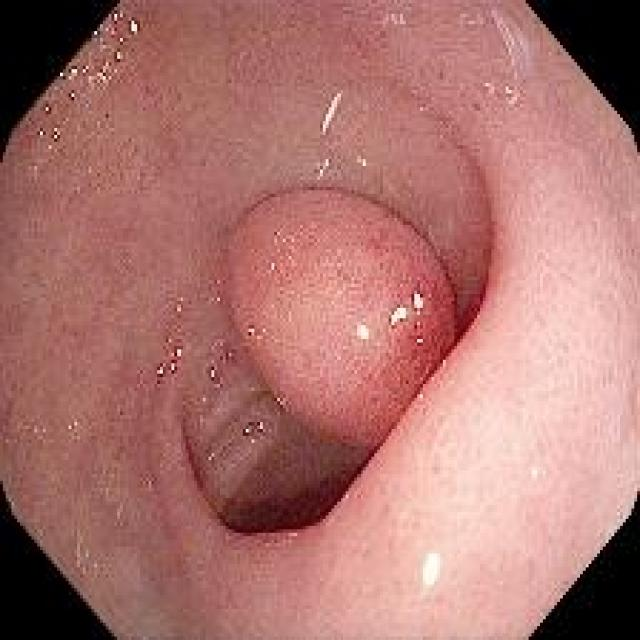Polyps: (224, 189, 455, 450)
